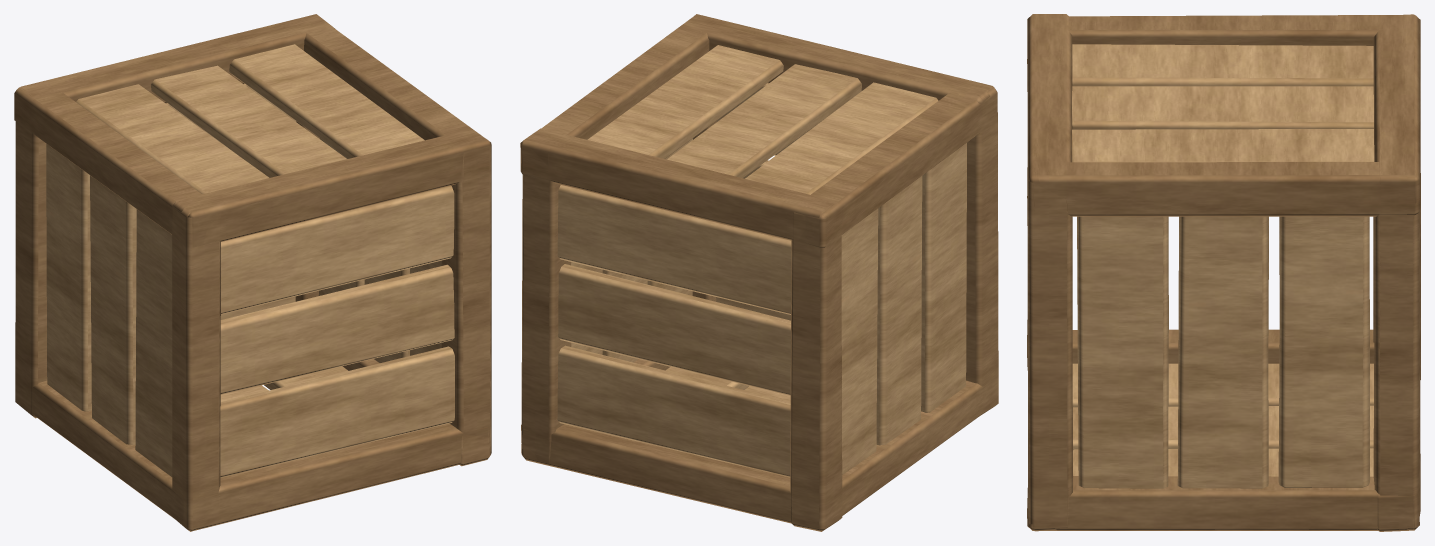
File: Crate.glb
The picture shows the model from 3 angles, left to right: view 1: azimuth 30°, elevation 25°; view 2: azimuth 150°, elevation 25°; view 3: azimuth 270°, elevation 25°; orthographic projection. The views are drawn at different scales.
Visible parts, largest first — view 1: Crate; view 2: Crate; view 3: Crate.
Part boxes in pixels (x1=…): Crate: x1=14, y1=14, x2=491, y2=531; Crate: x1=520, y1=14, x2=998, y2=531; Crate: x1=1027, y1=14, x2=1420, y2=531.
Bounding box in the file's own units: 0.7043 × 0.7048 × 0.7044.
Materials: 2 (2 with a texture image).
